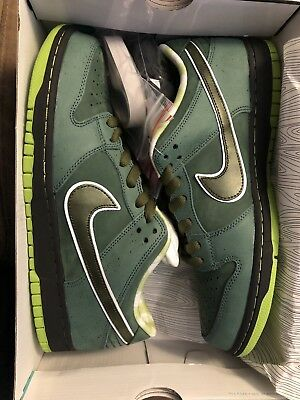Nike SB Dunk Green Lobster: (15, 20, 175, 359), (143, 31, 286, 364)
